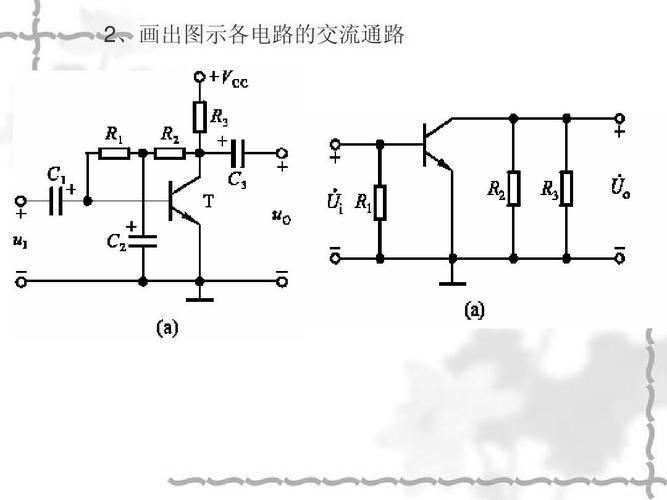cap1: (44, 182, 77, 218), (216, 135, 248, 170), (127, 219, 159, 250)
res1: (370, 181, 390, 224), (190, 96, 209, 138), (557, 165, 575, 209), (505, 168, 524, 209), (94, 144, 134, 163), (150, 143, 190, 162)
triode: (415, 109, 460, 175), (164, 174, 208, 228)
